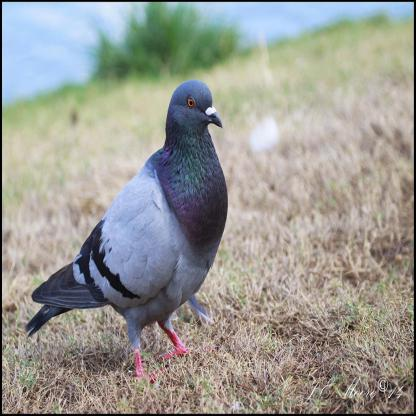Rock Pigeon: (18, 76, 233, 342)
